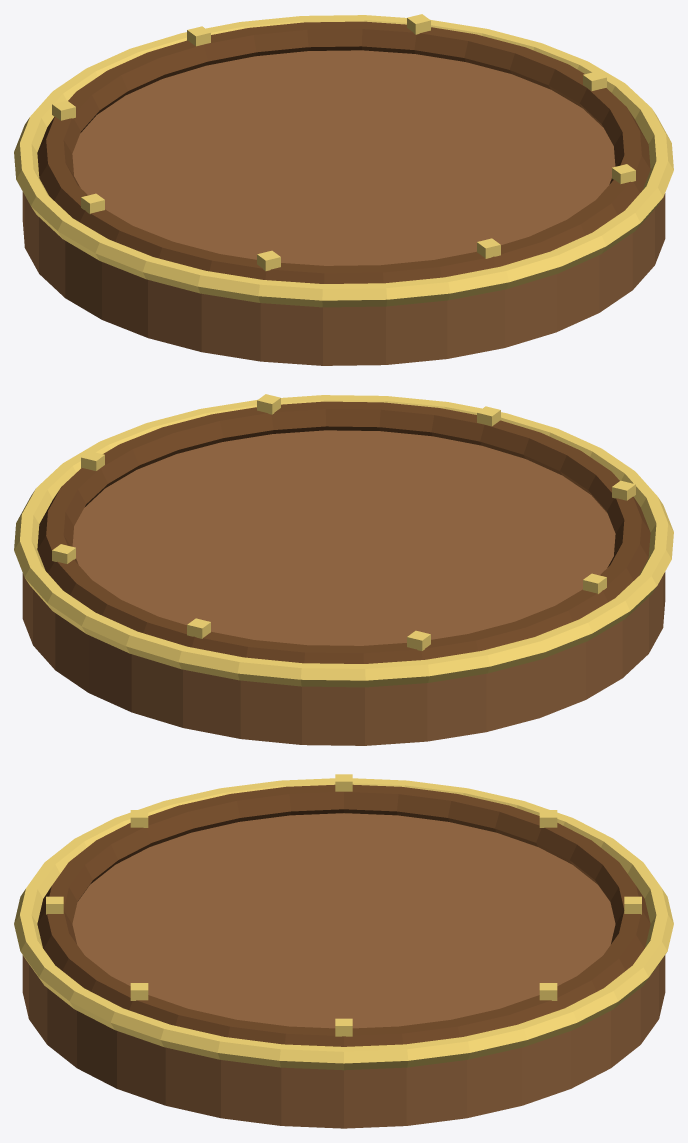
File: wheel_bowl.glb
The picture shows the model from 3 angles, top to bottom: view 1: azimuth 30°, elevation 25°; view 2: azimuth 150°, elevation 25°; view 3: azimuth 270°, elevation 25°; orthographic projection.
Visible parts, largest first — view 1: wheel_bowl; view 2: wheel_bowl; view 3: wheel_bowl.
Part boxes in pixels (x1=…): wheel_bowl: x1=14, y1=14, x2=673, y2=365; wheel_bowl: x1=14, y1=394, x2=673, y2=745; wheel_bowl: x1=14, y1=774, x2=673, y2=1128.
Bounding box in the file's own units: 1.13 × 0.175 × 1.13.
